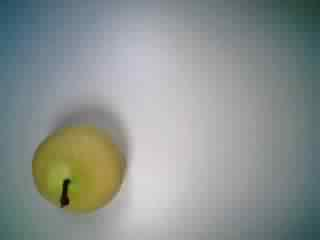pear: (24, 112, 133, 214)
